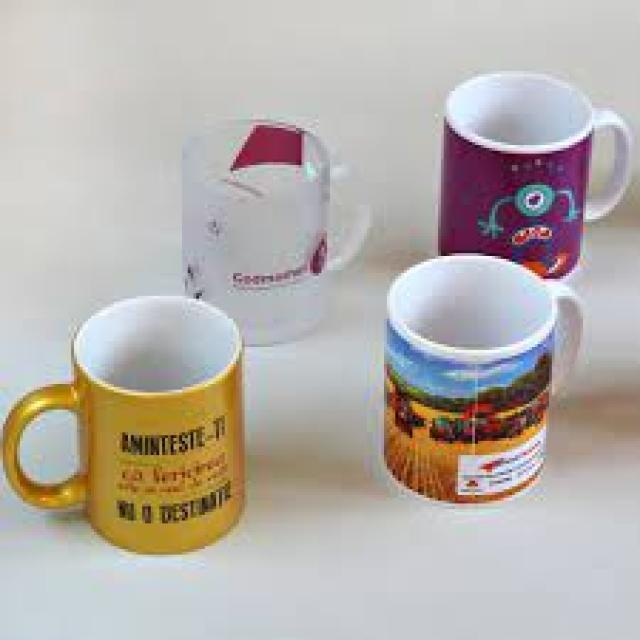taza: (0, 296, 266, 565), (368, 253, 588, 509), (156, 112, 384, 344), (423, 61, 639, 282)
